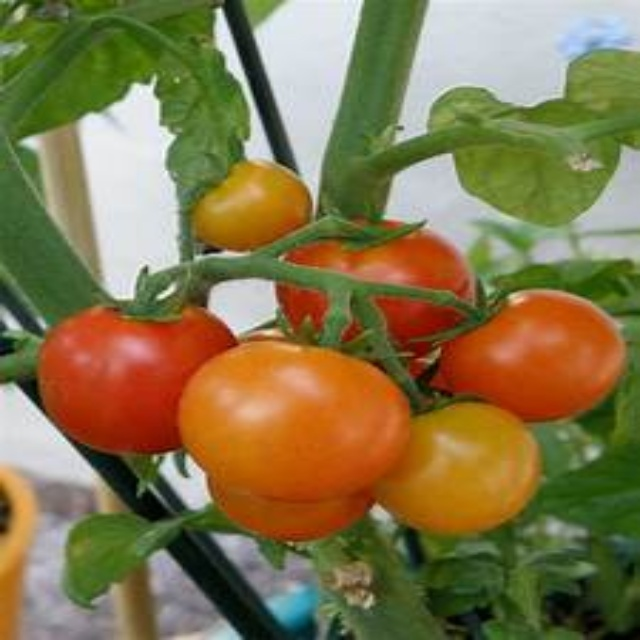tomato: (175, 344, 405, 494), (41, 299, 239, 447), (276, 214, 478, 355), (441, 279, 620, 425), (385, 396, 541, 525), (187, 160, 315, 264)
